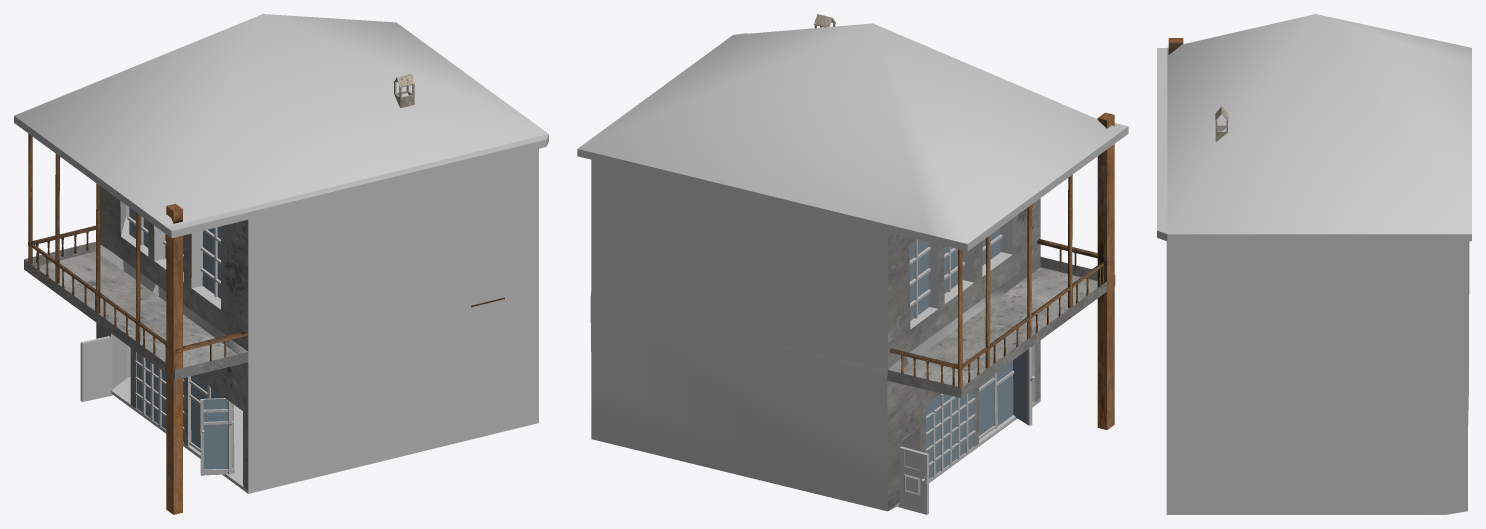
File: EvBilal.fbx
3 renders of one model, left to right at view 1: azimuth 30°, elevation 25°; view 2: azimuth 150°, elevation 25°; view 3: azimuth 270°, elevation 25°, orthographic. The views are drawn at different scales.
Visible parts, largest first — view 1: EV, cati, korkuluk3, kapiDukkan, kapi1, camekan1, pencereler, camekan3; view 2: EV, cati, korkuluk3, camekan1, pencereler, camekan3, kapi1, kapiDukkan; view 3: EV, cati.
Part boxes in pixels (x1,y1,x2,y2): EV: (24, 149, 538, 493); cati: (14, 14, 548, 238); korkuluk3: (28, 133, 247, 514); kapiDukkan: (200, 398, 234, 475); kapi1: (80, 336, 112, 401); camekan1: (135, 352, 184, 442); pencereler: (127, 207, 220, 298); camekan3: (189, 375, 231, 474); EV: (590, 159, 1115, 511); cati: (577, 23, 1128, 251); korkuluk3: (889, 112, 1114, 429); camekan1: (925, 389, 975, 478); pencereler: (909, 228, 1002, 320); camekan3: (979, 361, 1014, 439); kapi1: (898, 446, 928, 514); kapiDukkan: (1013, 347, 1034, 425); EV: (1166, 241, 1469, 514); cati: (1157, 14, 1471, 241).
Size of the model in its own units: 26.02 by 26.49 by 18.58.
